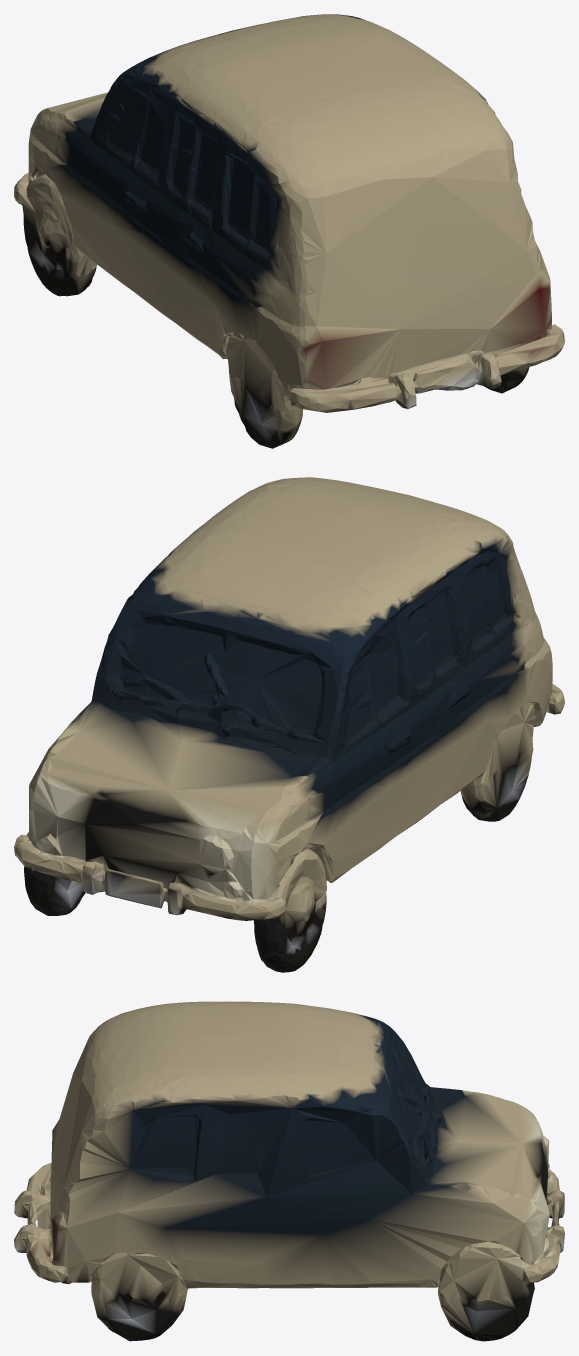
Rendered from renault4_lod1.glb.
3 views of the same model, one above another, from view 1: azimuth 30°, elevation 25°; view 2: azimuth 150°, elevation 25°; view 3: azimuth 270°, elevation 25° (orthographic). The views are drawn at different scales.
Parts seen in each view (by area): view 1: world; view 2: world; view 3: world.
Part boxes in pixels (x1=…): world: x1=14, y1=14, x2=564, y2=448; world: x1=14, y1=477, x2=564, y2=972; world: x1=14, y1=1001, x2=564, y2=1341.
Size of the model in its own units: 85.25 by 91.38 by 176.
